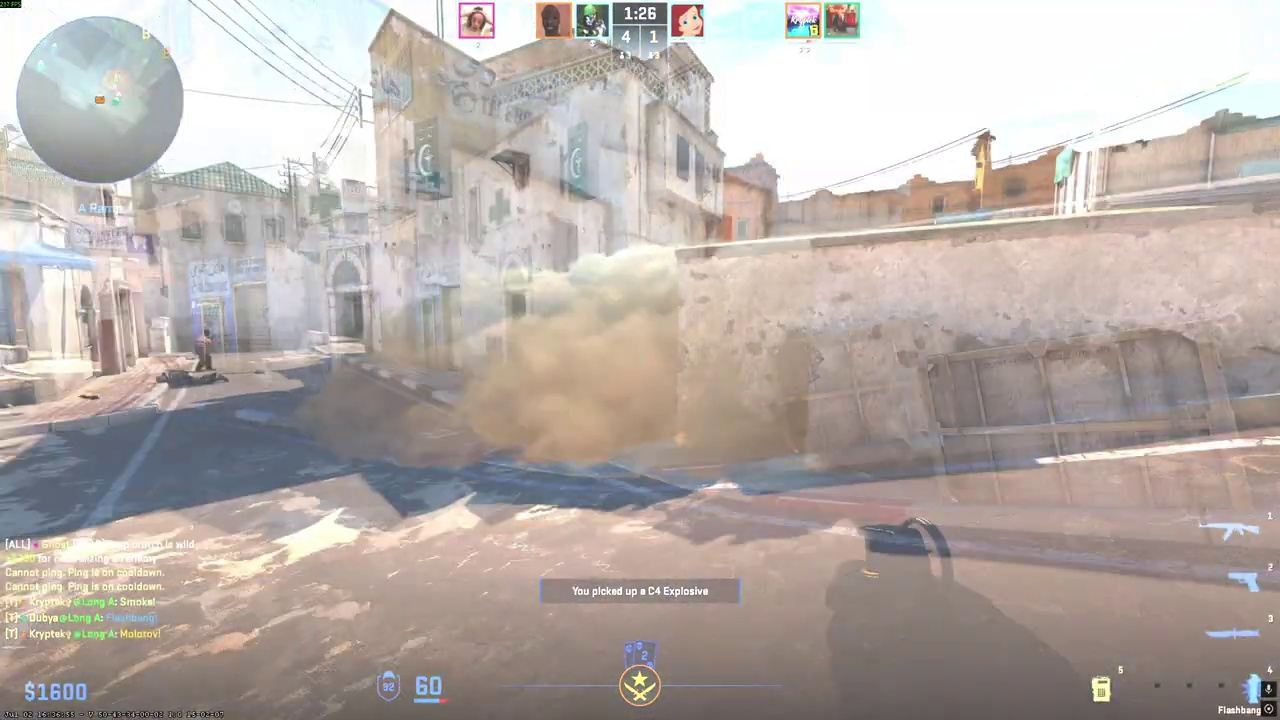Terrorist: (195, 328, 216, 372)
